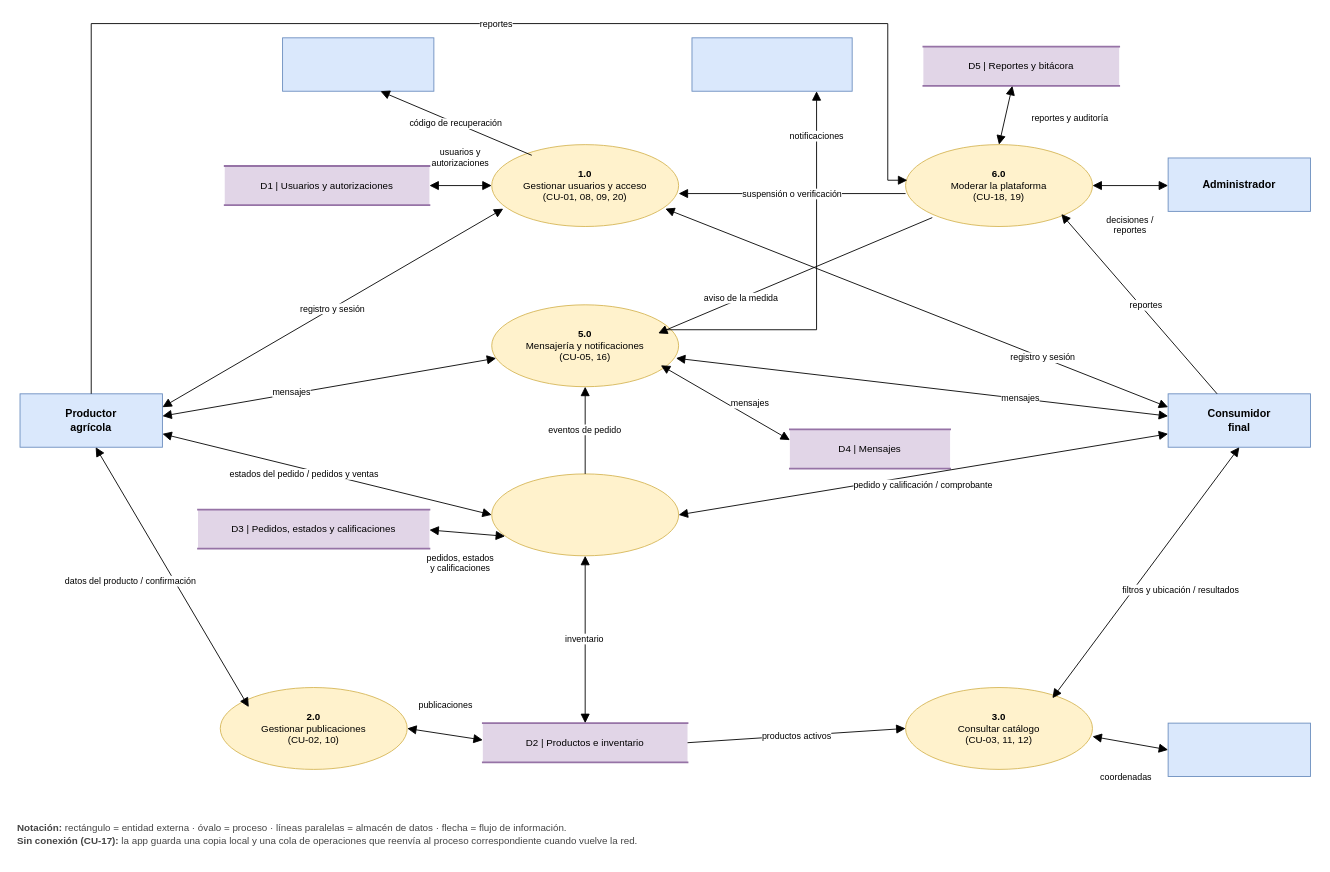
This 1330x872 diagram has some shape labels left out. The shapes that lost their labels are listed below. From the top down, each one's centre as x and y in pixels, then its label:
At point 358,64: "Servicio de correo".
At point 771,64: "Servicio de notificaciones push".
At point 585,514: "4.0 Gestionar pedidos y reputación (CU-04, 06, 07, 13, 14, 15)".
At point 1239,749: "Servicio de geolocalización".
